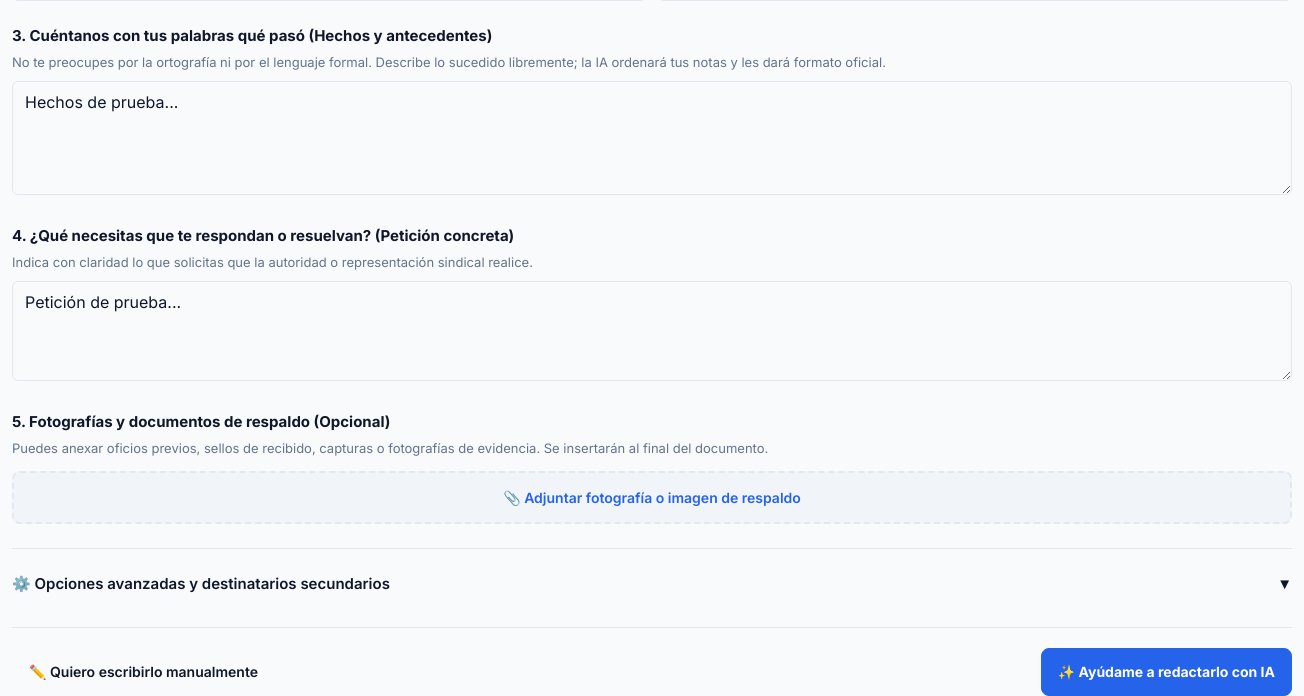
Test: Flujo UI del Generador de Escritos › EscritosForm: valida con mensaje amistoso si falta destinatario
(page scrolled)
Click the button "✨ Ayúdame a redactarlo con IA" at x=1166, y=672, box [1041,648,1292,695]
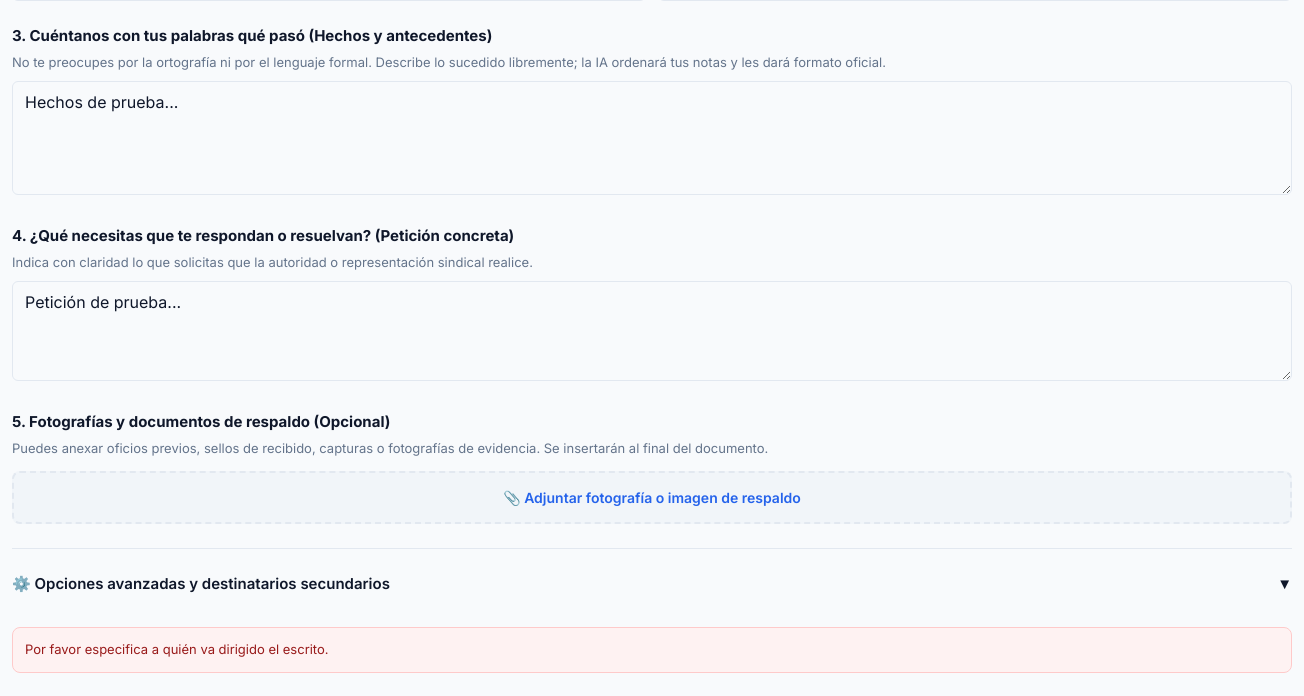
Expected: the text "Por favor especifica a quién va dirigido el escrito." is shown, [12,627,1292,672]
